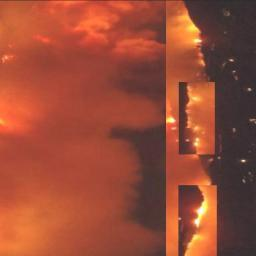Heavy smoke: (0, 0, 159, 256)
Medium fire: (145, 2, 226, 256)
